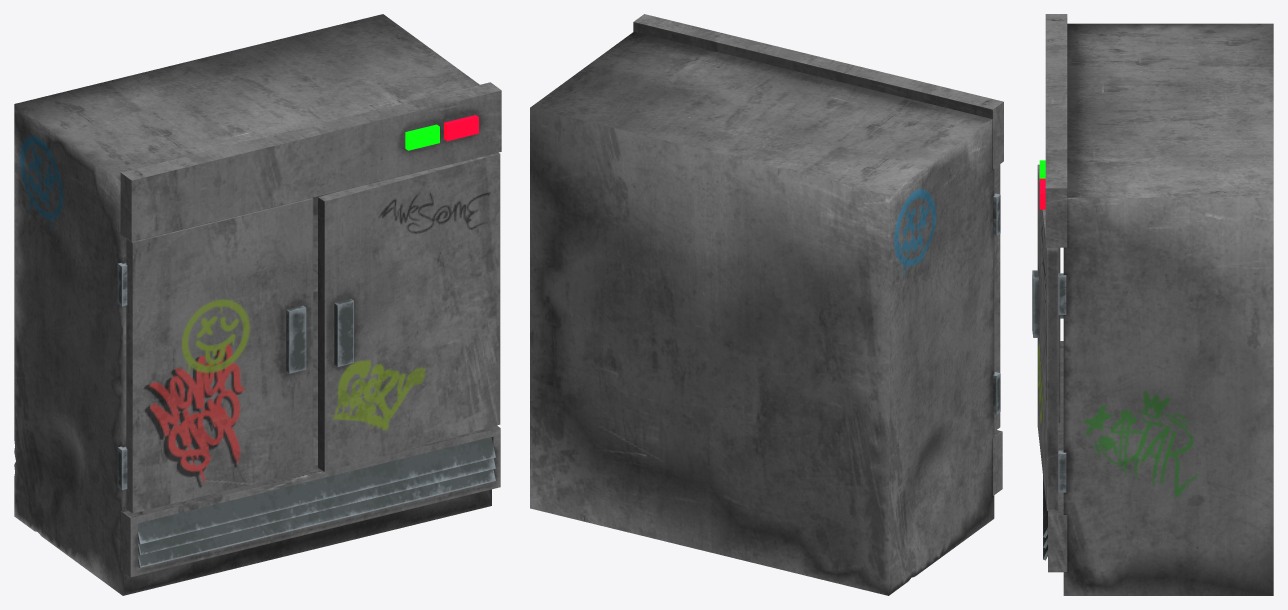
File: industrial fridge closed door.fbx
3 renders of one model, left to right at view 1: azimuth 30°, elevation 25°; view 2: azimuth 150°, elevation 25°; view 3: azimuth 270°, elevation 25°, orthographic. The views are drawn at different scales.
Parts seen in each view (by area): view 1: industrial fridge door open.001; view 2: industrial fridge door open.001; view 3: industrial fridge door open.001.
Part boxes in pixels (bbox=[...]): industrial fridge door open.001: bbox=[14, 14, 501, 595]; industrial fridge door open.001: bbox=[530, 14, 1003, 595]; industrial fridge door open.001: bbox=[1032, 14, 1273, 595].
Bounding box in the file's own units: 402 × 431 × 231.
Materials: 3 (1 with a texture image).
